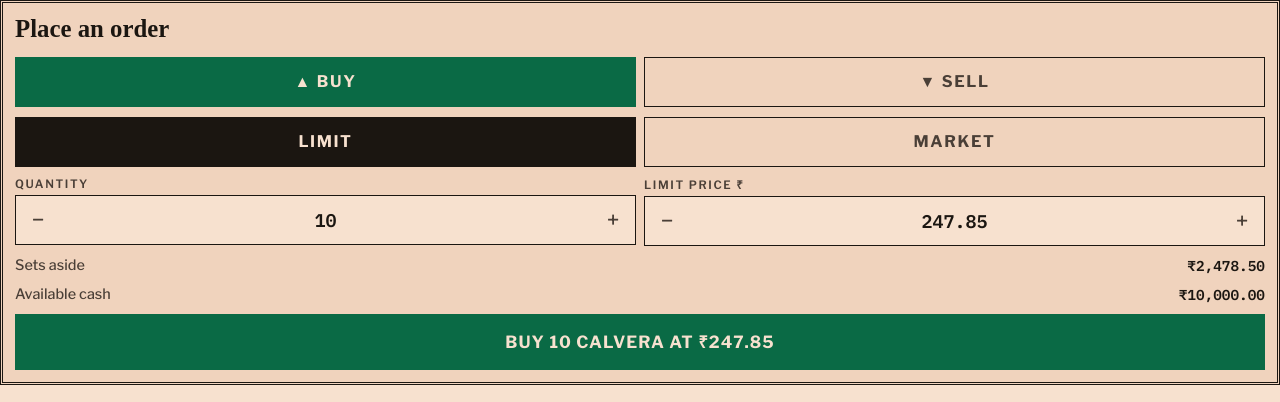
Test case: the order ticket (paper theme) › steps the price by a tick and the quantity by a share
Step 1. Click the button named "Five paise higher" → click(1242, 221), box [1220,197,1264,245]
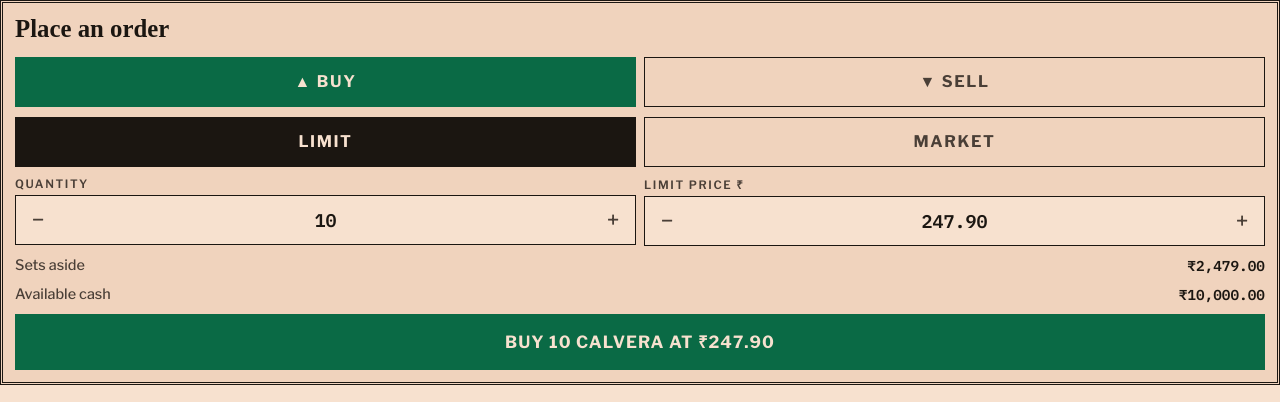
Expected: the field labelled "Limit price ₹" holds "247.90", [689,197,1220,245]
Step 2. Click the button named "One share more" → click(613, 220), box [591,196,635,244]
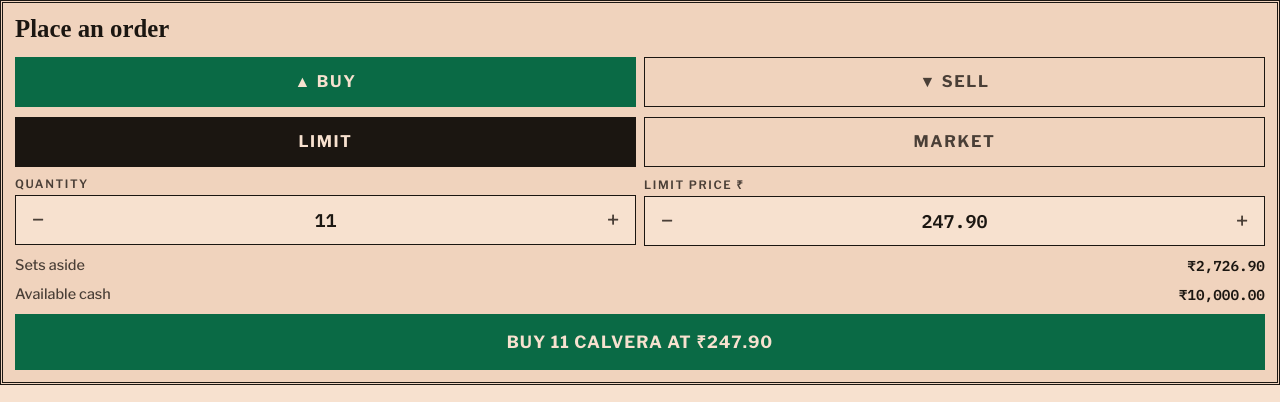
Expected: the field labelled "Quantity" holds "11", [60,196,591,244]
